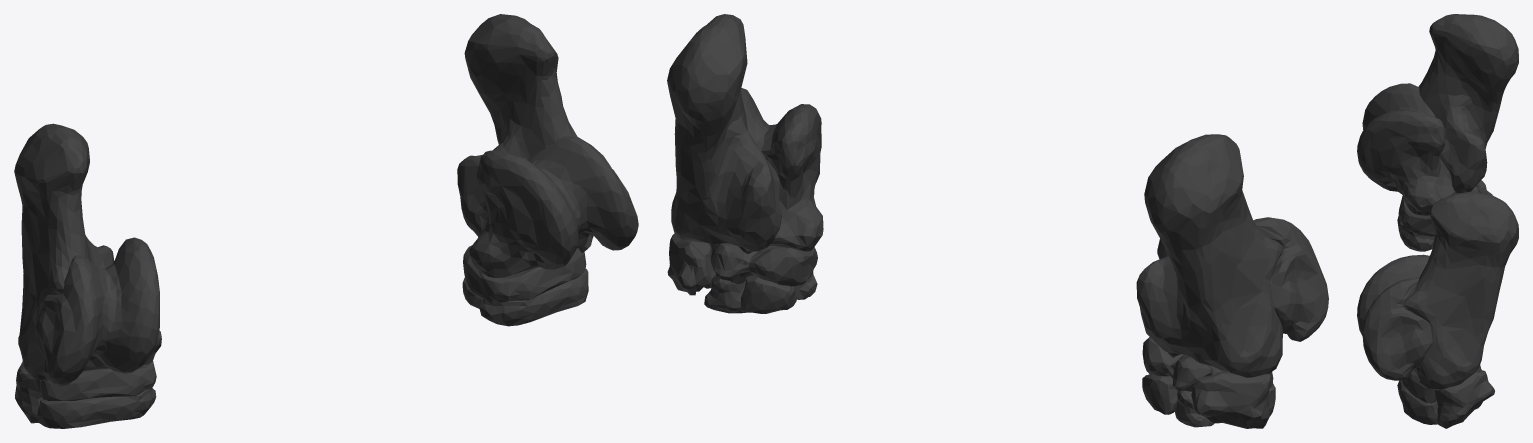
File: skel_tarsal_bones.glb
3 views of the same model, side by side, from view 1: azimuth 30°, elevation 25°; view 2: azimuth 150°, elevation 25°; view 3: azimuth 270°, elevation 25° (orthographic). The views are drawn at different scales.
Visible parts, largest first — view 1: skel_tarsal_bones; view 2: skel_tarsal_bones; view 3: skel_tarsal_bones.
Part boxes in pixels (x1,y1,x2,y2): skel_tarsal_bones: (14, 14, 638, 428); skel_tarsal_bones: (667, 14, 1328, 428); skel_tarsal_bones: (1357, 14, 1518, 428).
Bounding box in the file's own units: 0.0056 × 0.00248 × 0.00168.
Materials: 1 (1 with a texture image).
